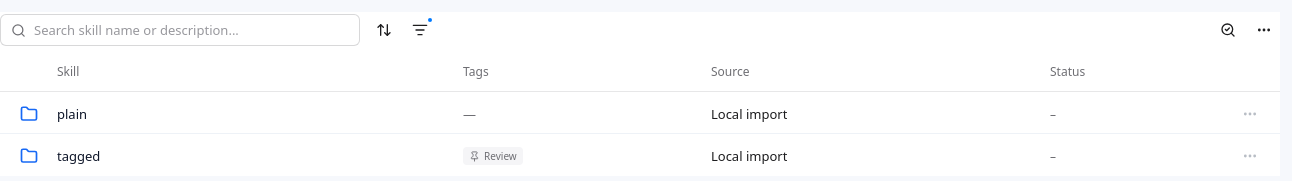
SkillLibraryPanel › allocates Tags only when the Library has tags and keeps the column when a filter excludes tagged Skills
Type "plain" into the search field with placeholder "Search skill name or description..." at x=192, y=30, box [34,15,349,45]
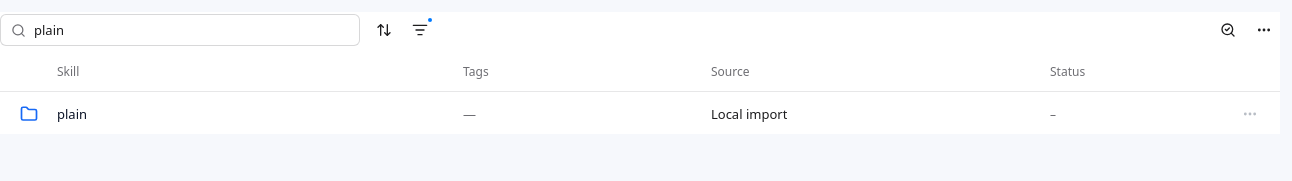
Result: the number of elements with class "library-table-row" is 1 at [0,92,1280,134]
